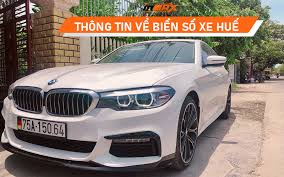Bien-so: (22, 116, 66, 137)
